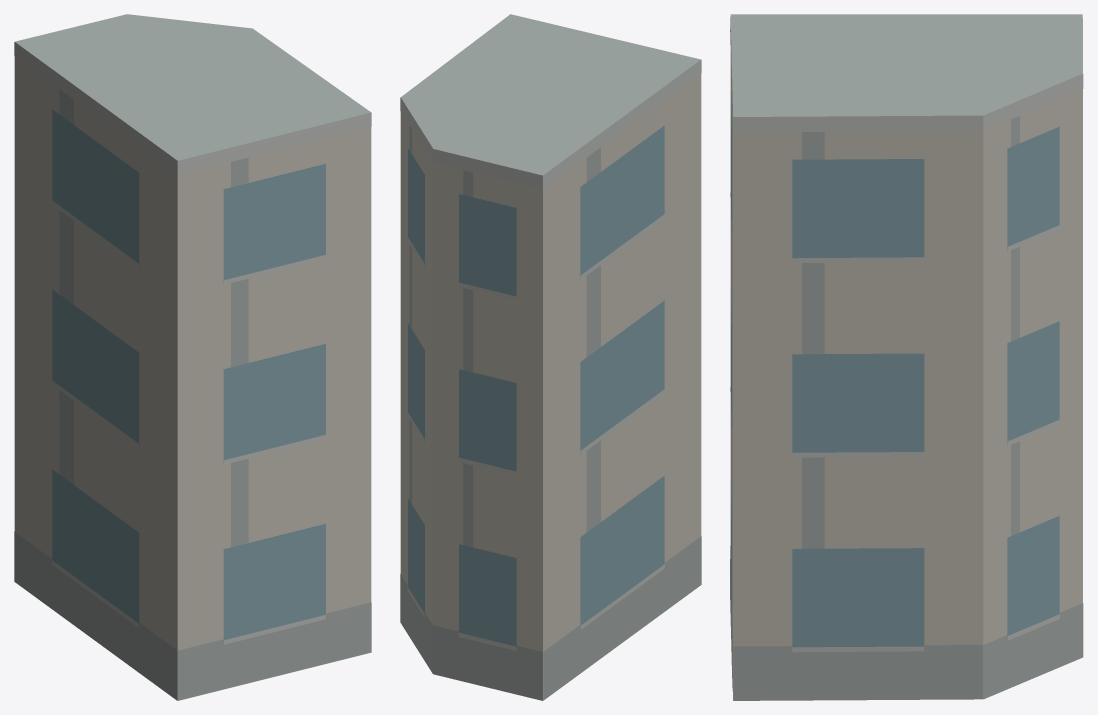
Rendered from survey-upis-32817667.glb.
The picture shows the model from 3 angles, left to right: view 1: azimuth 30°, elevation 25°; view 2: azimuth 150°, elevation 25°; view 3: azimuth 270°, elevation 25°; orthographic projection. The views are drawn at different scales.
Parts seen in each view (by area): view 1: survey-upis-32817667.tmp; view 2: survey-upis-32817667.tmp; view 3: survey-upis-32817667.tmp.
Boxes of the visible parts, box(x1,y1,x2,y2) form: survey-upis-32817667.tmp: box(14, 14, 371, 700); survey-upis-32817667.tmp: box(400, 14, 701, 700); survey-upis-32817667.tmp: box(730, 14, 1083, 700).
Size of the model in its own units: 3.48 by 9.15 by 5.03.
